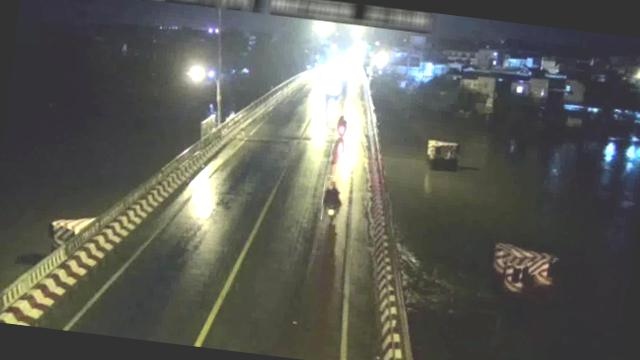Bike: (319, 176, 344, 224), (334, 113, 350, 138)
